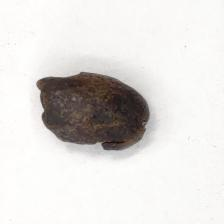NG: (35, 71, 149, 149)
